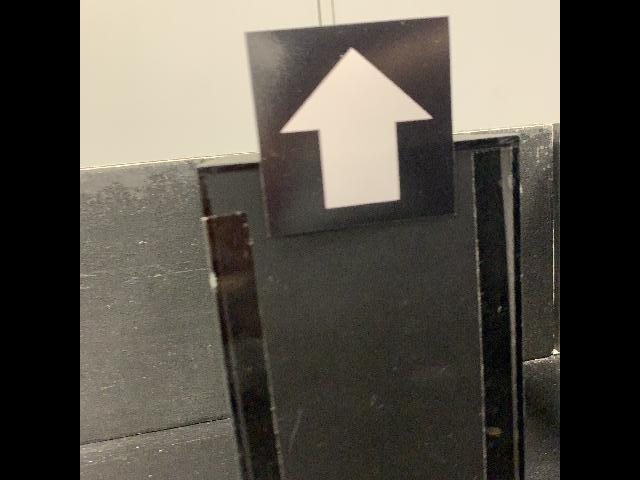up_arrow: (241, 13, 457, 245)
